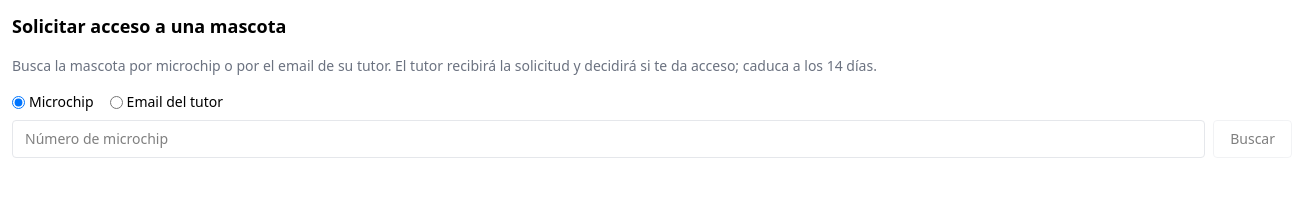
it: CareLinkRequestPanel (FE-008, PRD-020) › busca por email del tutor y avisa si no hay resultados
The image size is (1304, 210).
Click the radio button labelled "Email del tutor": click(116, 102) [110, 96, 123, 108]
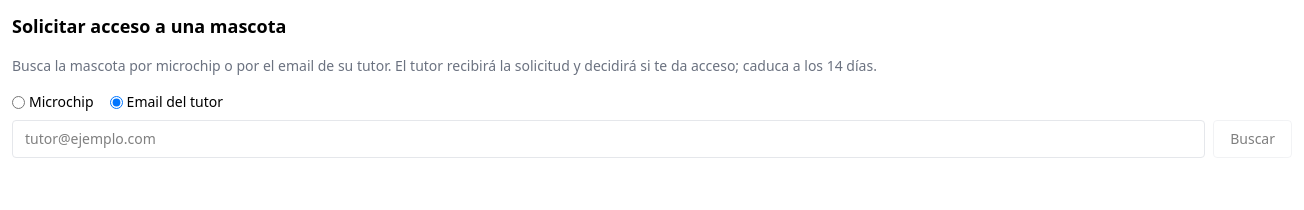
In the field with id "lookup-term": (609, 139) [12, 120, 1205, 158], type "nadie@example.com"
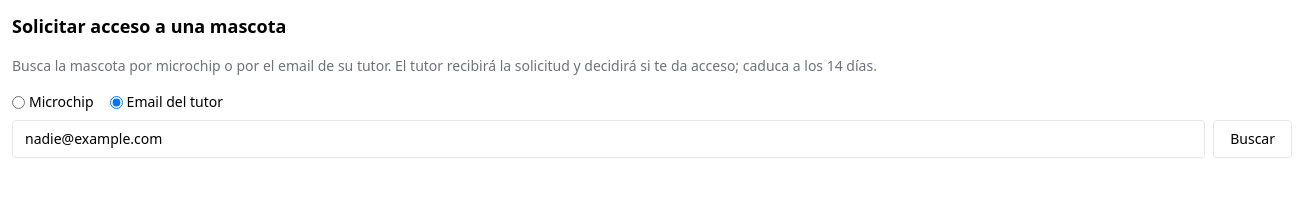
Submit the form, box [12, 92, 1292, 158]
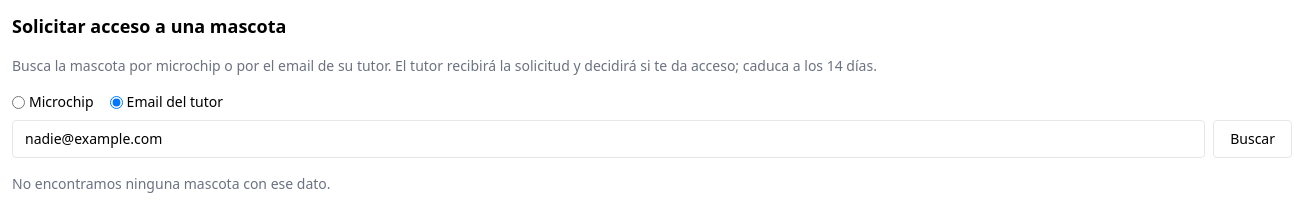
Check: the text "No encontramos ninguna mascota con ese dato." is shown, box [12, 174, 330, 193]
